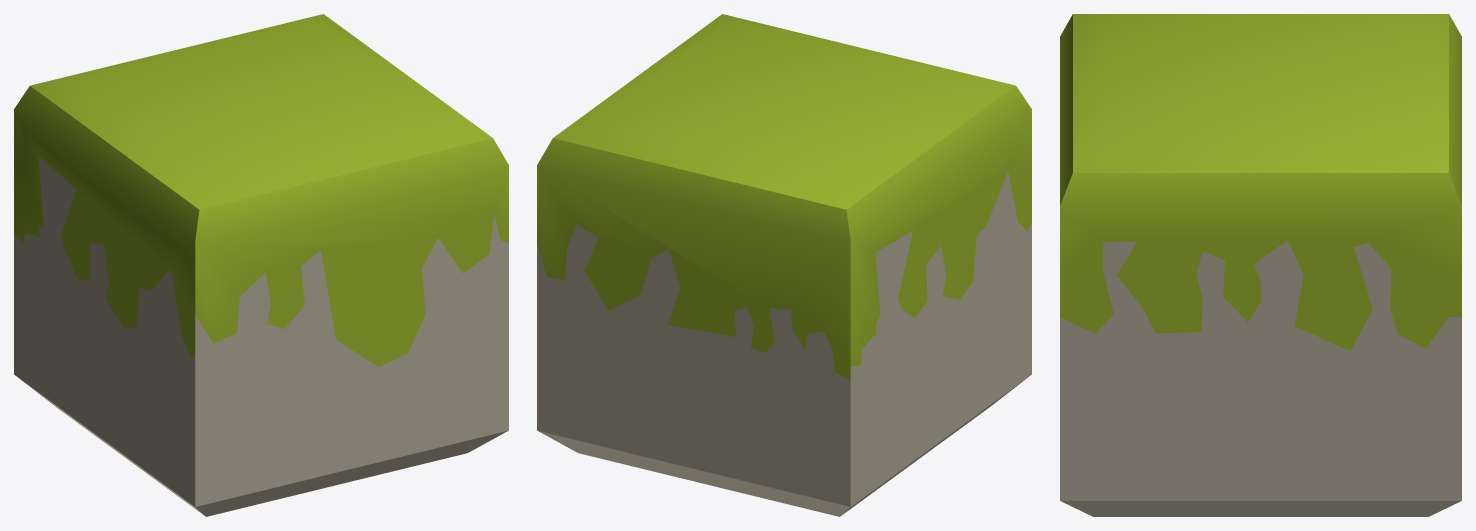
Rendered from 1walk.fbx.
The picture shows the model from 3 angles, left to right: view 1: azimuth 30°, elevation 25°; view 2: azimuth 150°, elevation 25°; view 3: azimuth 270°, elevation 25°; orthographic projection. The views are drawn at different scales.
Visible parts, largest first — view 1: Cube.080; view 2: Cube.080; view 3: Cube.080.
Part boxes in pixels (left/top/right/bottom): Cube.080: left=14, top=14, right=508, bottom=516; Cube.080: left=537, top=14, right=1031, bottom=516; Cube.080: left=1060, top=14, right=1461, bottom=516.
Bounding box in the file's own units: 100 × 100 × 100.
